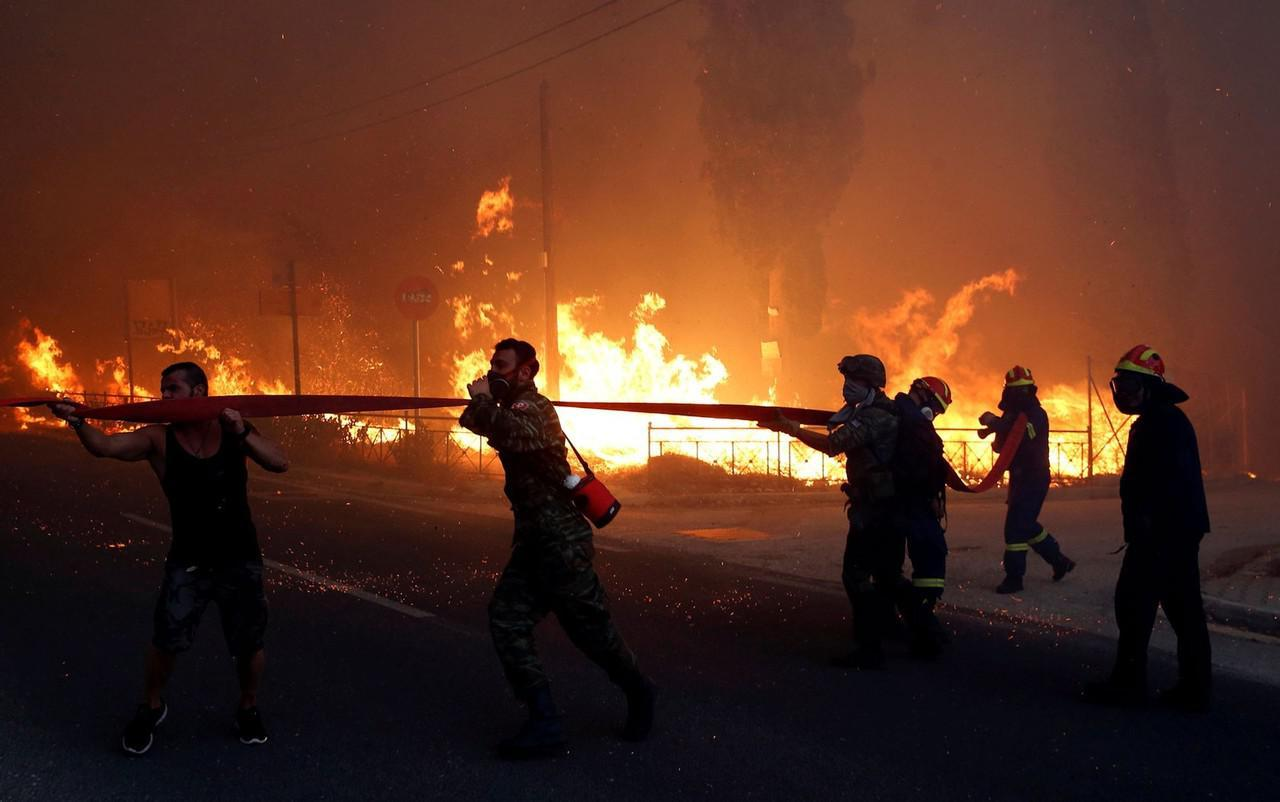Fire: (429, 166, 792, 508), (795, 272, 1145, 497), (7, 304, 418, 462)
